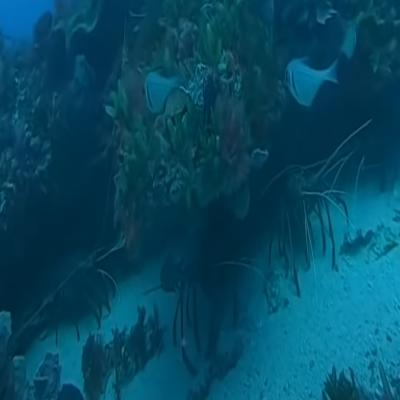lobster: (273, 167, 335, 276)
